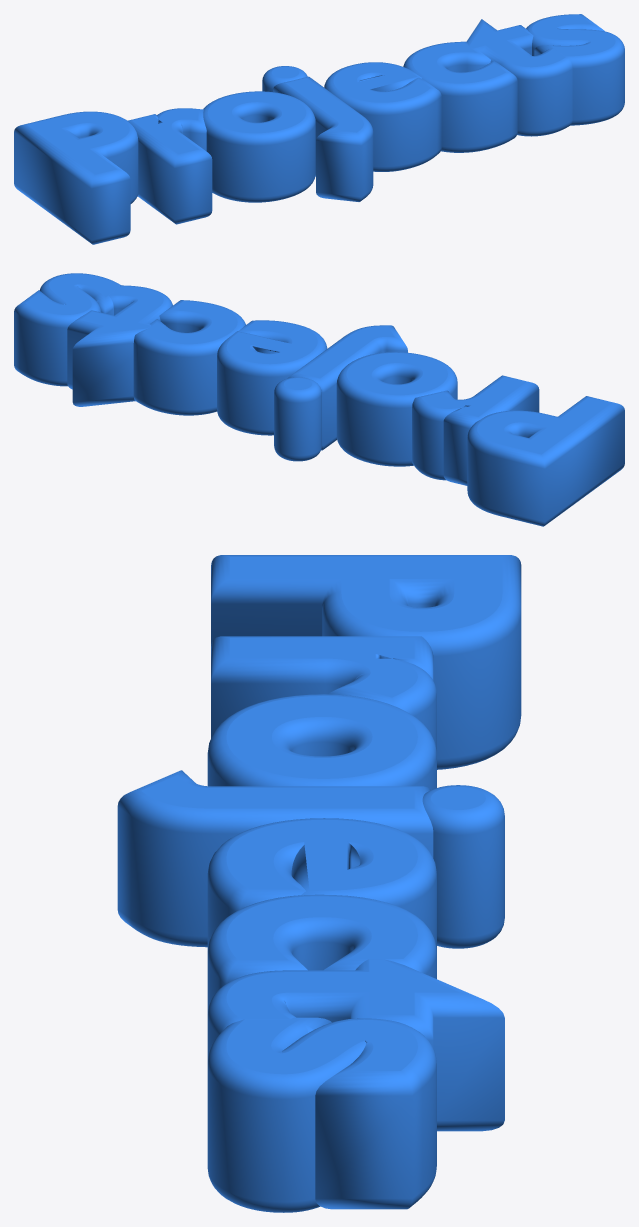
File: projects.gltf
3 views of the same model, one above another, from view 1: azimuth 30°, elevation 25°; view 2: azimuth 150°, elevation 25°; view 3: azimuth 270°, elevation 25° (orthographic). The views are drawn at different scales.
Parts seen in each view (by area): view 1: Text; view 2: Text; view 3: Text.
Boxes of the visible parts, left/top/right/bottom form: Text: left=14, top=14, right=624, bottom=244; Text: left=14, top=273, right=624, bottom=526; Text: left=117, top=555, right=521, bottom=1212.
Size of the model in its own units: 3.34 by 0.4 by 1.07.
